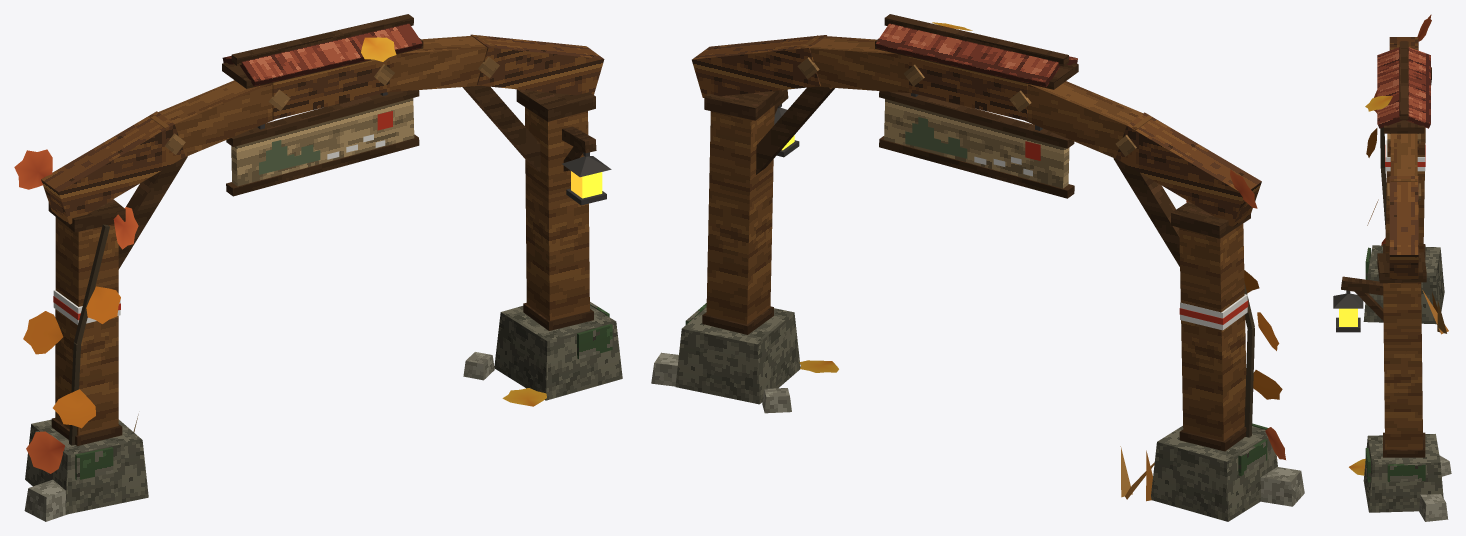
The model's file is gate_arch.glb.
The picture shows the model from 3 angles, left to right: view 1: azimuth 30°, elevation 25°; view 2: azimuth 150°, elevation 25°; view 3: azimuth 270°, elevation 25°; orthographic projection. The views are drawn at different scales.
Visible parts, largest first — view 1: gate_arch, sway_sign, glow_lantern; view 2: gate_arch, sway_sign; view 3: gate_arch, glow_lantern.
Part boxes in pixels (x1=…): gate_arch: x1=14, y1=14, x2=622, y2=521; sway_sign: x1=226, y1=90, x2=419, y2=196; glow_lantern: x1=571, y1=171, x2=602, y2=198; gate_arch: x1=651, y1=14, x2=1304, y2=521; sway_sign: x1=879, y1=91, x2=1074, y2=198; gate_arch: x1=1333, y1=14, x2=1451, y2=521; glow_lantern: x1=1339, y1=308, x2=1357, y2=326.
Size of the model in its own units: 5.14 by 3.21 by 1.06.
19 materials, 9 textured.
